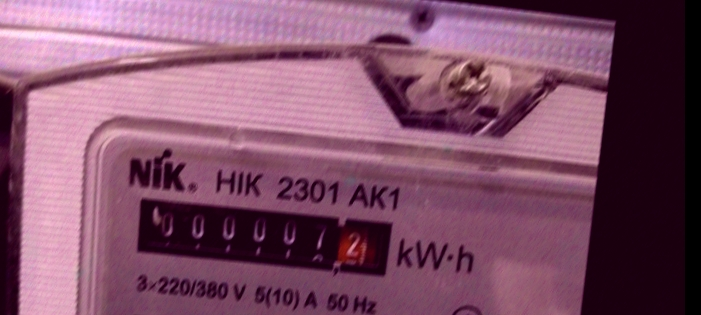0: (217, 213, 238, 242), (187, 212, 207, 242), (156, 210, 176, 239), (279, 218, 298, 248), (249, 215, 267, 244)
2: (343, 230, 362, 260)
7: (308, 222, 328, 253)
screen: (124, 185, 404, 289)
